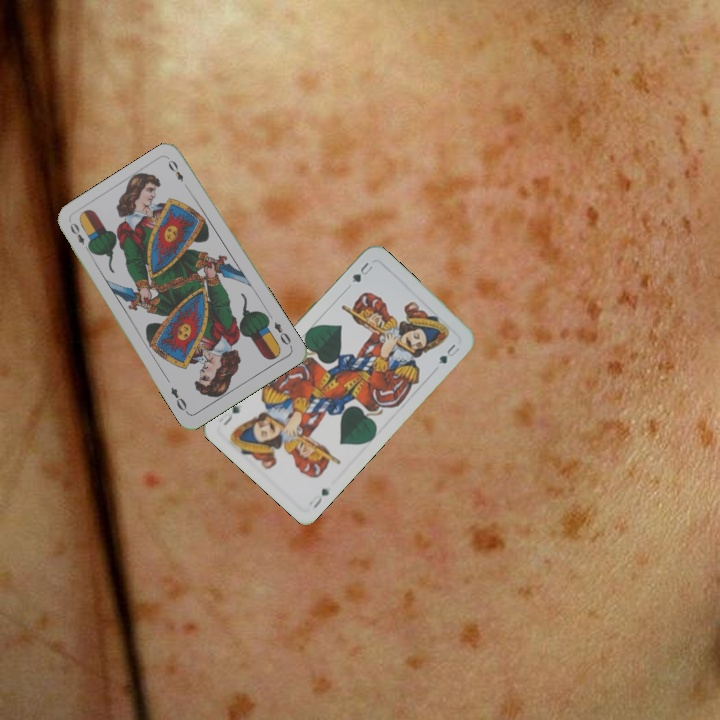EO: (66, 218, 93, 255), (270, 318, 295, 350)
GU: (348, 258, 376, 285), (305, 484, 332, 511)
